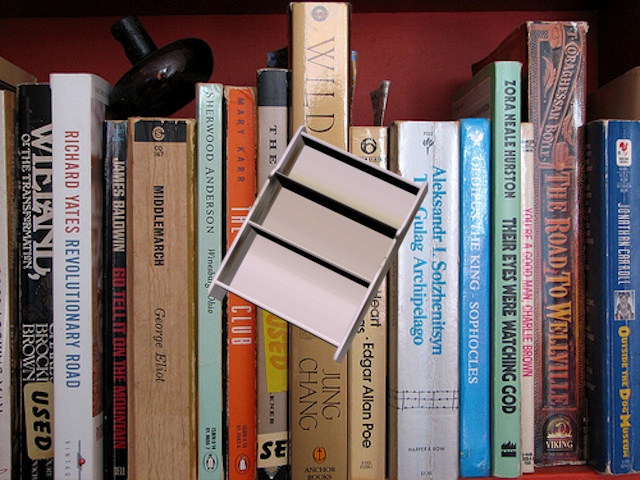bookcase: (201, 113, 433, 368)
